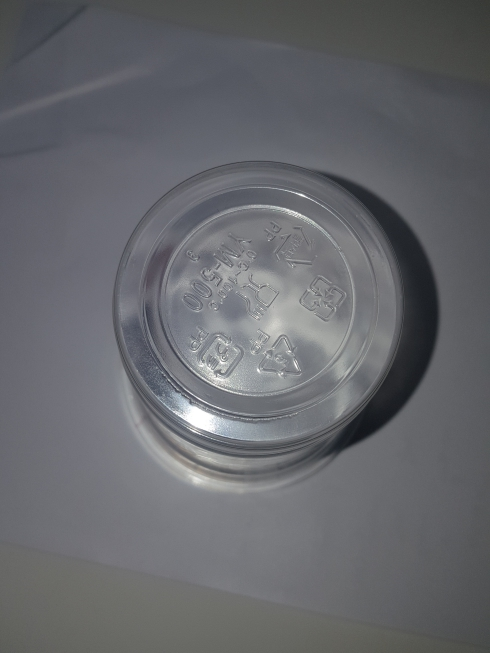recycle: (249, 326, 305, 380)
